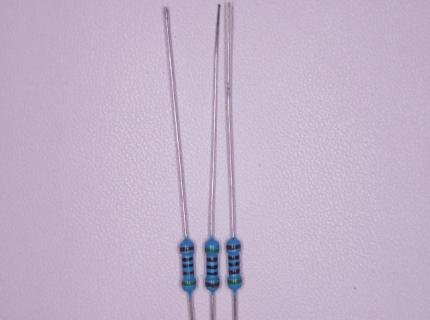Black band: (228, 261, 240, 267), (181, 257, 193, 262), (182, 264, 194, 269), (206, 265, 218, 270), (228, 255, 240, 260), (206, 272, 218, 276)
Brown band: (179, 246, 194, 252), (226, 244, 241, 250), (205, 282, 220, 287), (229, 268, 240, 274), (206, 257, 218, 262), (183, 271, 194, 275)
Green band: (204, 247, 219, 253), (227, 279, 242, 285), (181, 281, 196, 286)
